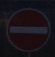No entry: (5, 6, 50, 52)
